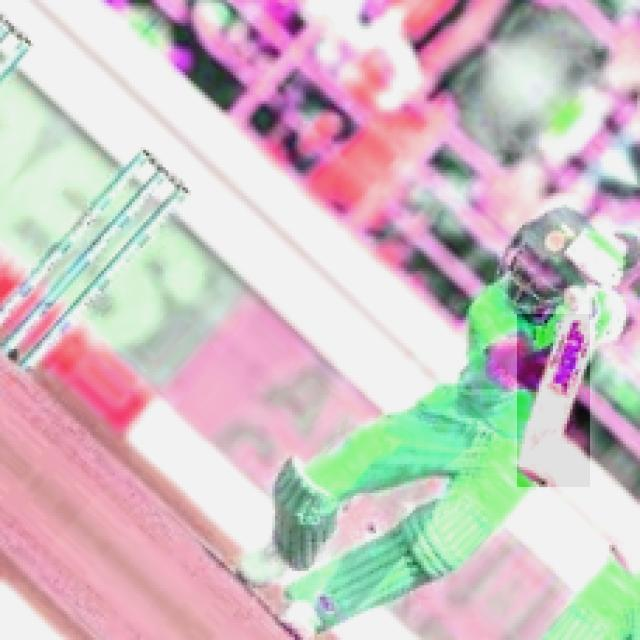bat: (519, 314, 588, 488)
toe: (516, 465, 555, 489)
